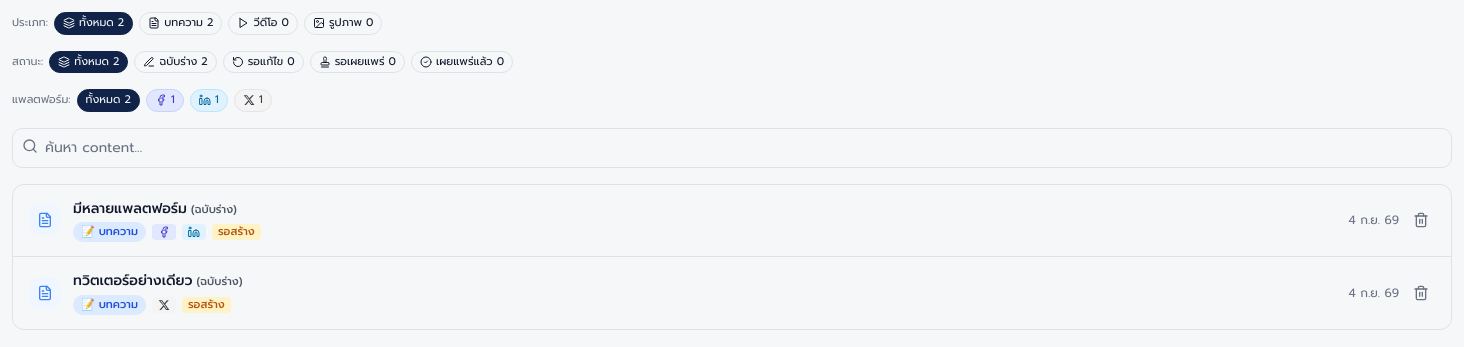
Scenario: ContentListTab — กรองด้วยแพลตฟอร์มเจอ item ที่มีหลายแพลตฟอร์ม › เลือก chip LinkedIn เจอ item ที่มี facebook+linkedin แต่ไม่เจอ item ที่มีแค่ twitter
The width and height of the screenshot is (1464, 347).
Expected: the text "มีหลายแพลตฟอร์ม" is shown, [73, 198, 187, 218]
Click the 2nd button titled "LinkedIn".
click(209, 100)  # box [190, 89, 228, 112]
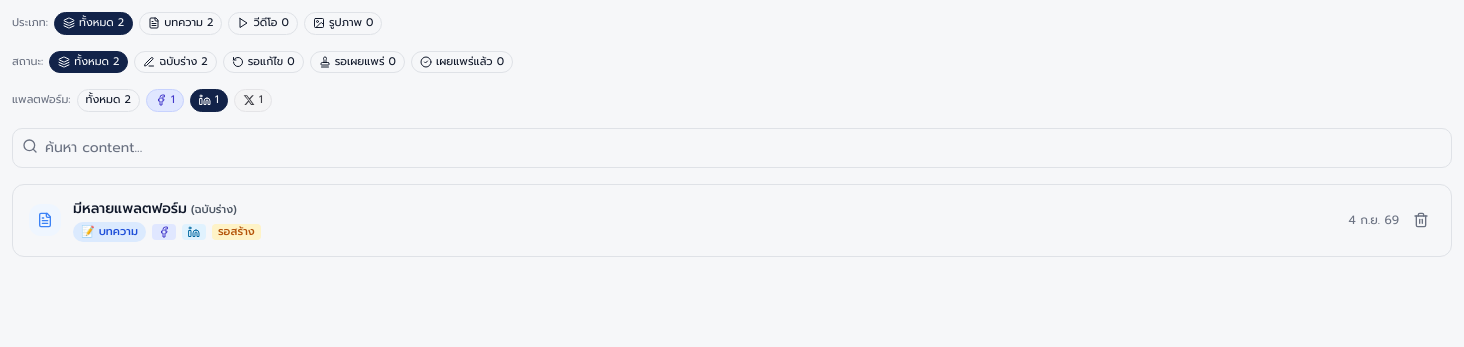
Expected: the text "มีหลายแพลตฟอร์ม" is shown, [73, 198, 187, 218]
Expected: the text "ทวิตเตอร์อย่างเดียว" is gone
